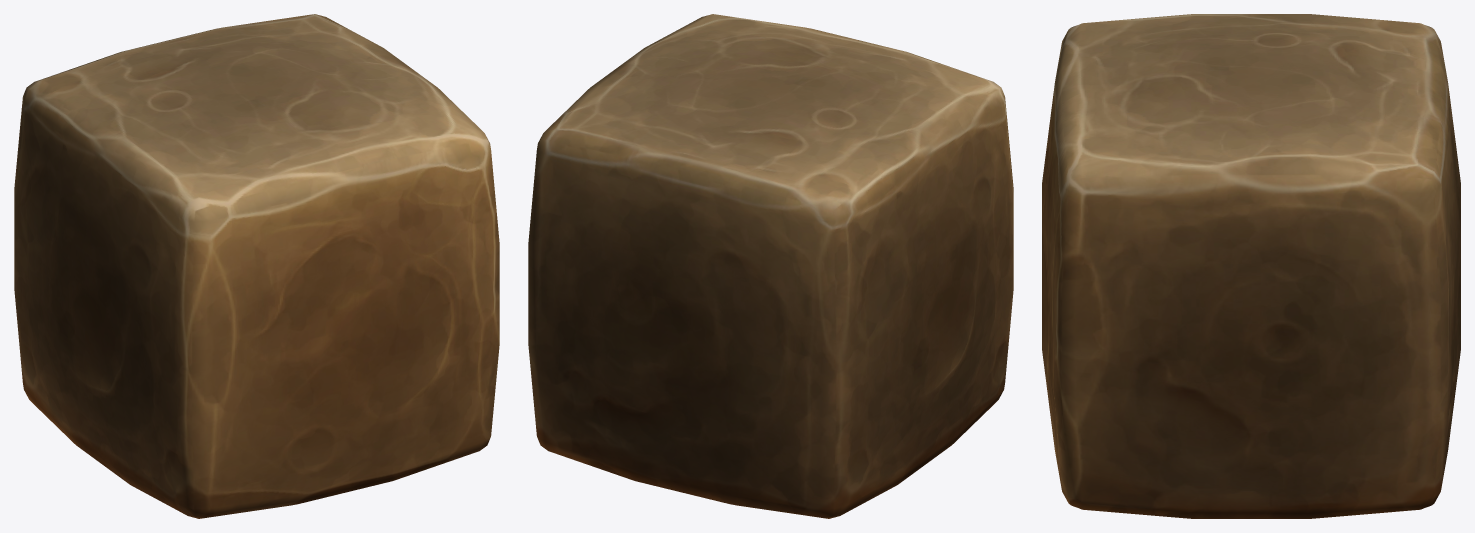
File: result_initial.glb
3 views of the same model, side by side, from view 1: azimuth 30°, elevation 25°; view 2: azimuth 150°, elevation 25°; view 3: azimuth 270°, elevation 25° (orthographic). The views are drawn at different scales.
Visible parts, largest first — view 1: defaultMaterial; view 2: defaultMaterial; view 3: defaultMaterial.
Part boxes in pixels (x1,y1,x2,y2): defaultMaterial: (14,14,499,518); defaultMaterial: (528,14,1013,518); defaultMaterial: (1042,14,1460,518).
Size of the model in its own units: 215 by 215 by 215.
1 material, 1 textured.
